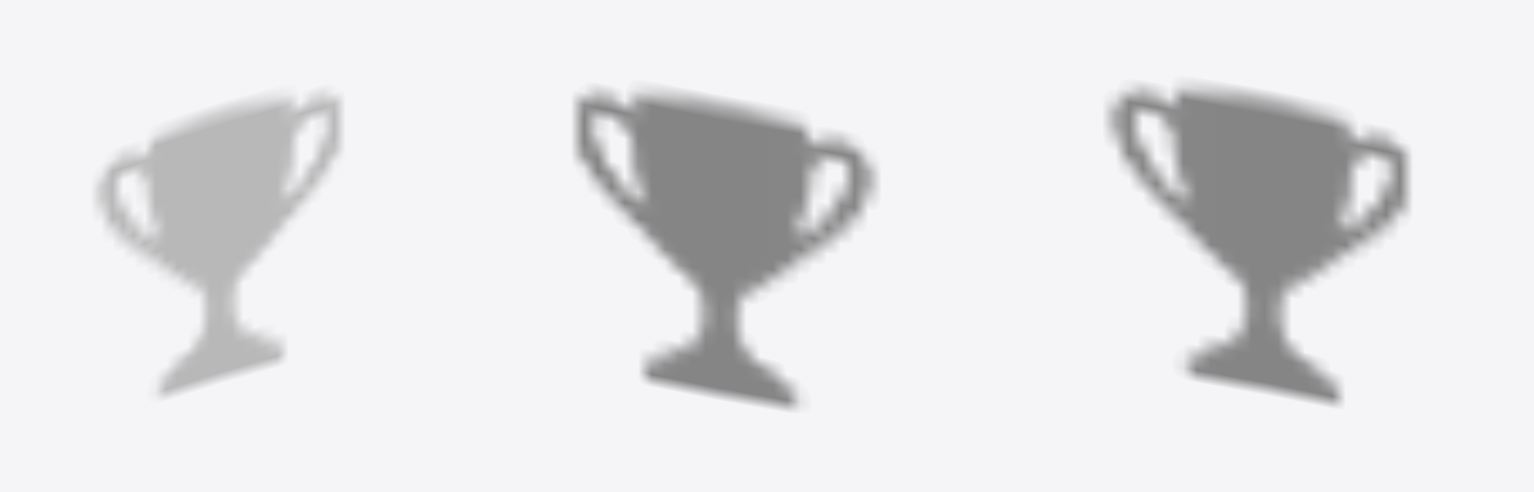
File: track3_whitecup.glb
3 renders of one model, left to right at view 1: azimuth 30°, elevation 25°; view 2: azimuth 150°, elevation 25°; view 3: azimuth 330°, elevation 25°, orthographic. The views are drawn at different scales.
Visible parts, largest first — view 1: menu_2_tr3_cupWhite; view 2: menu_2_tr3_cupWhite; view 3: menu_2_tr3_cupWhite.
Part boxes in pixels (x1,y1,x2,y2): menu_2_tr3_cupWhite: (93,88,343,399); menu_2_tr3_cupWhite: (573,86,878,410); menu_2_tr3_cupWhite: (1105,82,1410,406).
Bounding box in the file's own units: 0.7071 × 0.509 × 0.0696.
1 material, 1 textured.
